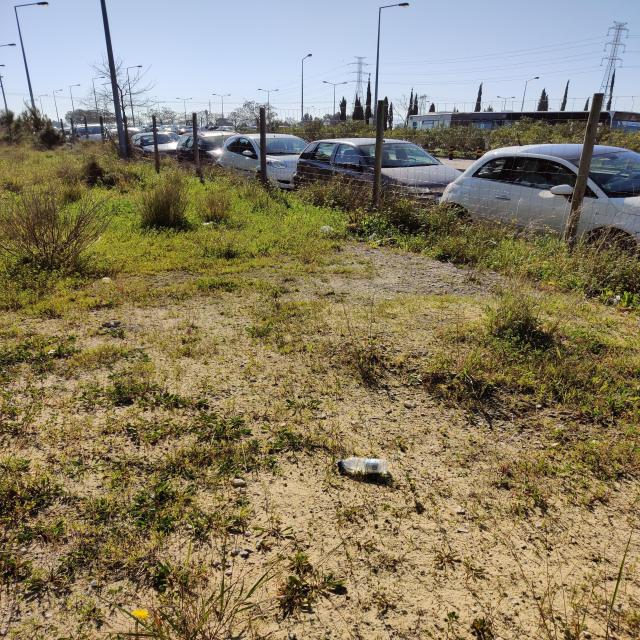litter: (333, 450, 404, 486)
